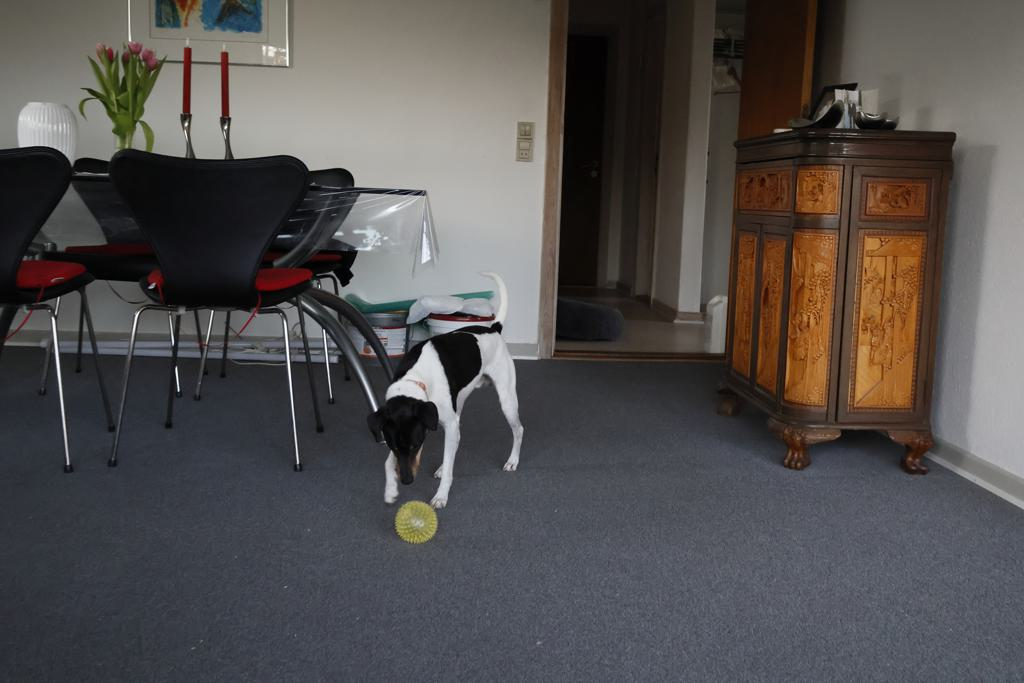Dog: (363, 265, 526, 514)
